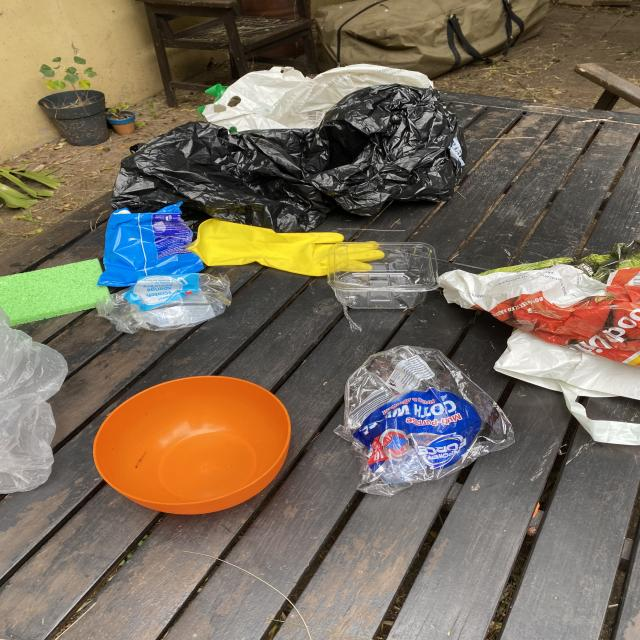bag: (106, 85, 466, 232), (439, 239, 640, 445), (198, 64, 434, 134), (0, 317, 68, 494), (97, 202, 204, 284)
bowl: (92, 376, 291, 514)
cup: (328, 242, 440, 310)
glove: (188, 219, 384, 277)
sponge: (0, 259, 113, 327)
wrappers: (334, 345, 515, 498), (94, 273, 231, 334)
